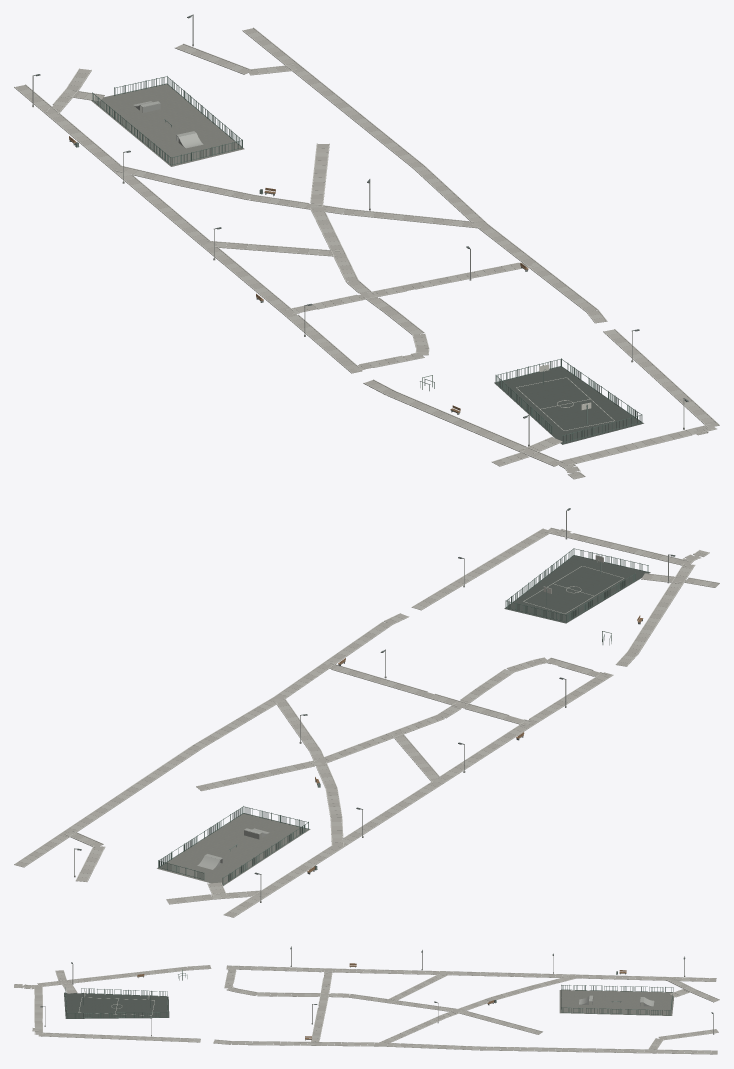
The model's file is district_-1_-2.glb.
The picture shows the model from 3 angles, top to bottom: view 1: azimuth 30°, elevation 25°; view 2: azimuth 150°, elevation 25°; view 3: azimuth 270°, elevation 25°; orthographic projection. The views are drawn at different scales.
Parts seen in each view (by area): view 1: CityPaving, CityCurbs, CitySkateSurface, CityCourtSurface, CityFence; view 2: CityPaving, CityCurbs, CityCourtSurface, CitySkateSurface, CityFence; view 3: CityPaving, CityCurbs, CitySkateSurface, CityCourtSurface, CityFence, CitySolid, CityRamp.
Part boxes in pixels (bbox=[...]): CityPaving: bbox=[15, 28, 718, 479]; CityCurbs: bbox=[14, 27, 719, 479]; CitySkateSurface: bbox=[91, 83, 244, 166]; CityCourtSurface: bbox=[494, 366, 643, 444]; CityFence: bbox=[92, 76, 642, 443]; CityPaving: bbox=[15, 528, 719, 917]; CityCurbs: bbox=[14, 527, 719, 917]; CityCourtSurface: bbox=[504, 555, 650, 623]; CitySkateSurface: bbox=[157, 813, 310, 885]; CityFence: bbox=[158, 548, 648, 885]; CityPaving: bbox=[14, 965, 719, 1053]; CityCurbs: bbox=[14, 965, 719, 1054]; CitySkateSurface: bbox=[559, 990, 674, 1015]; CityCourtSurface: bbox=[64, 992, 169, 1018]; CityFence: bbox=[65, 985, 673, 1018]; CitySolid: bbox=[44, 946, 714, 1039]; CityRamp: bbox=[579, 995, 654, 1006].
Bounding box in the file's own units: 54.64 × 5.8 × 183.
14 materials, 2 textured.
